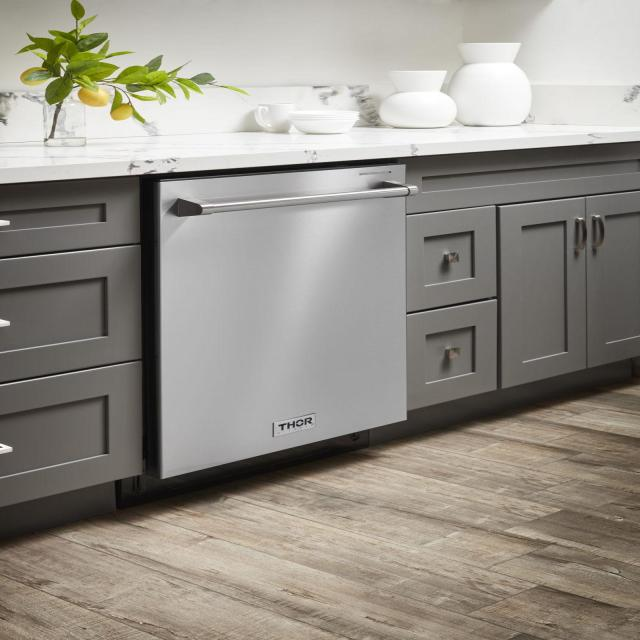dishwasher: (147, 162, 418, 506)
